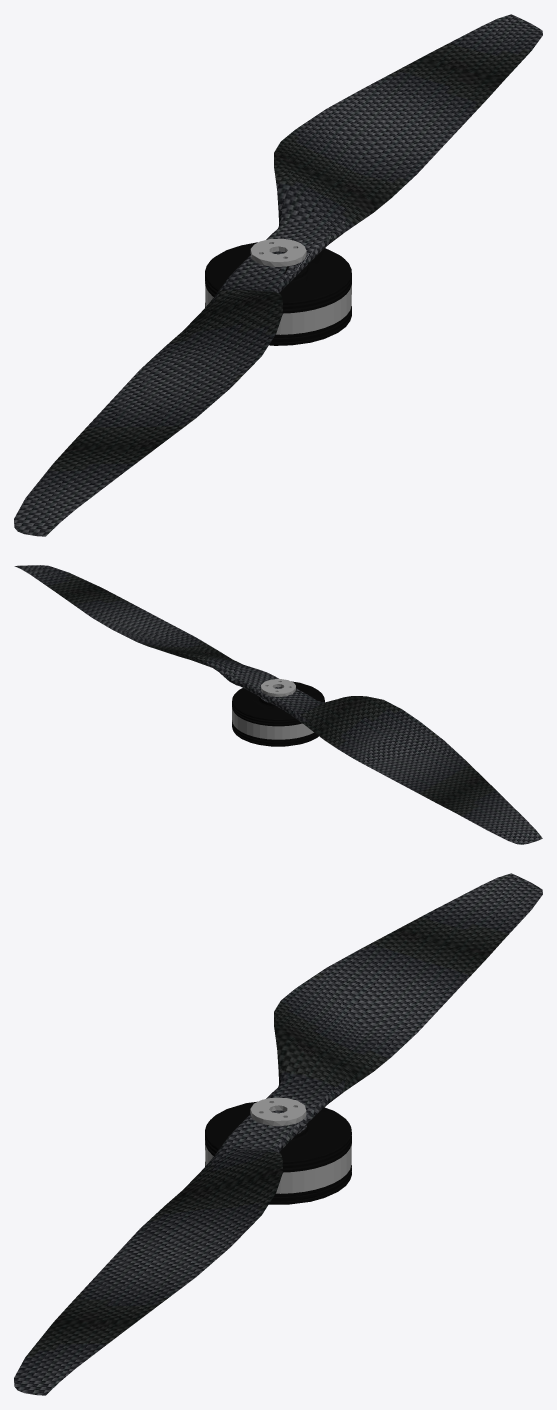
Rendered from rotor_ccw_link.dae.
3 renders of one model, top to bottom at view 1: azimuth 90°, elevation 25°; view 2: azimuth 150°, elevation 25°; view 3: azimuth 270°, elevation 25°, orthographic. The views are drawn at different scales.
Visible parts, largest first — view 1: rotor1_link; view 2: rotor1_link; view 3: rotor1_link.
Boxes of the visible parts, x1=… form: rotor1_link: x1=14, y1=14, x2=542, y2=536; rotor1_link: x1=14, y1=565, x2=542, y2=844; rotor1_link: x1=14, y1=873, x2=542, y2=1395.
Size of the model in its own units: 0.6656 by 0.2848 by 0.0517.
1 material, 1 textured.
